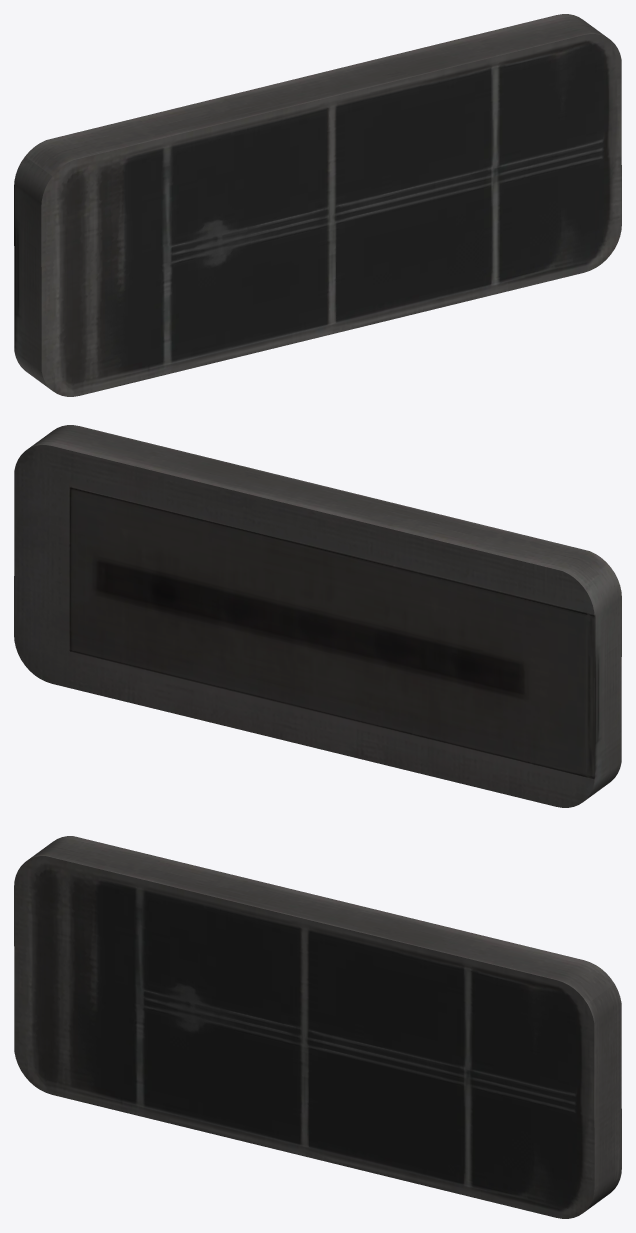
Rendered from backrest__pad.glb.
3 renders of one model, top to bottom at view 1: azimuth 30°, elevation 25°; view 2: azimuth 150°, elevation 25°; view 3: azimuth 330°, elevation 25°, orthographic.
Visible parts, largest first — view 1: world; view 2: world; view 3: world.
Part boxes in pixels (x1,y1,x2,y2): world: (14,14,621,396); world: (14,425,621,807); world: (14,836,621,1218).
Bounding box in the file's own units: 0.92 × 0.36 × 0.075.
Materials: 1 (1 with a texture image).
